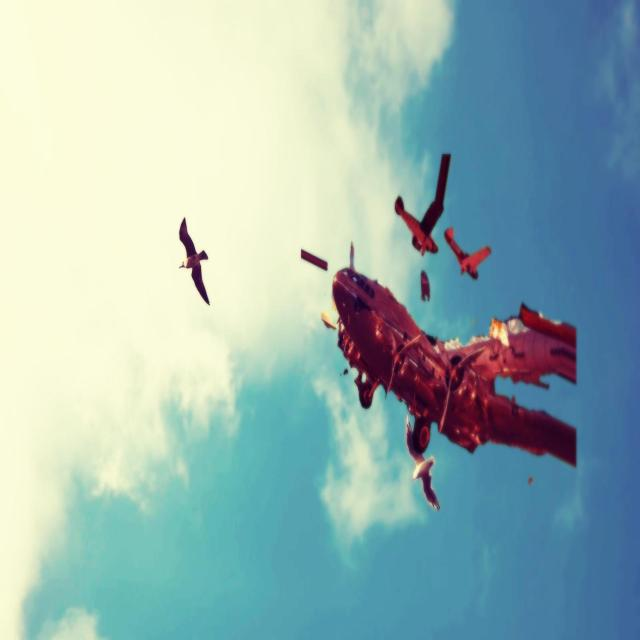airplane: (328, 266, 578, 468), (394, 152, 451, 256), (444, 226, 491, 280)
